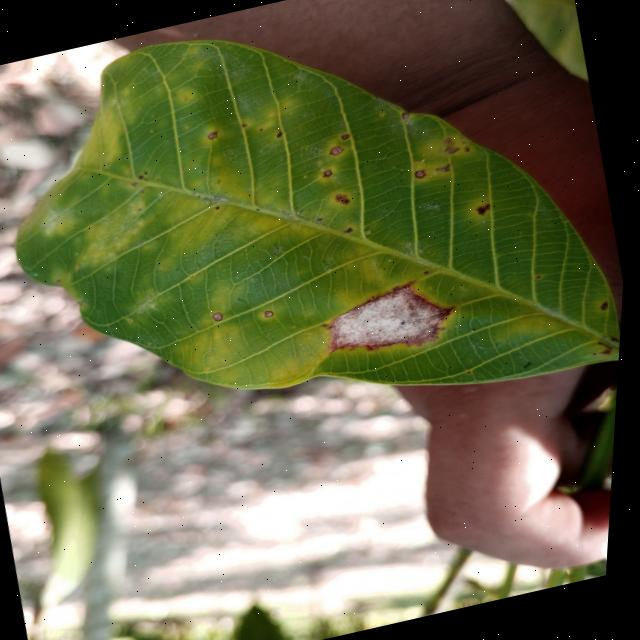Colletotrichum: (330, 144, 346, 156), (216, 311, 228, 321), (416, 169, 428, 179), (324, 169, 335, 178), (267, 310, 278, 318), (209, 131, 219, 139), (140, 175, 146, 180), (145, 170, 150, 175)
Leaf-Blight: (322, 276, 463, 366)
